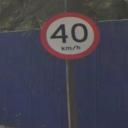speed_limit_40: (40, 11, 101, 59)
